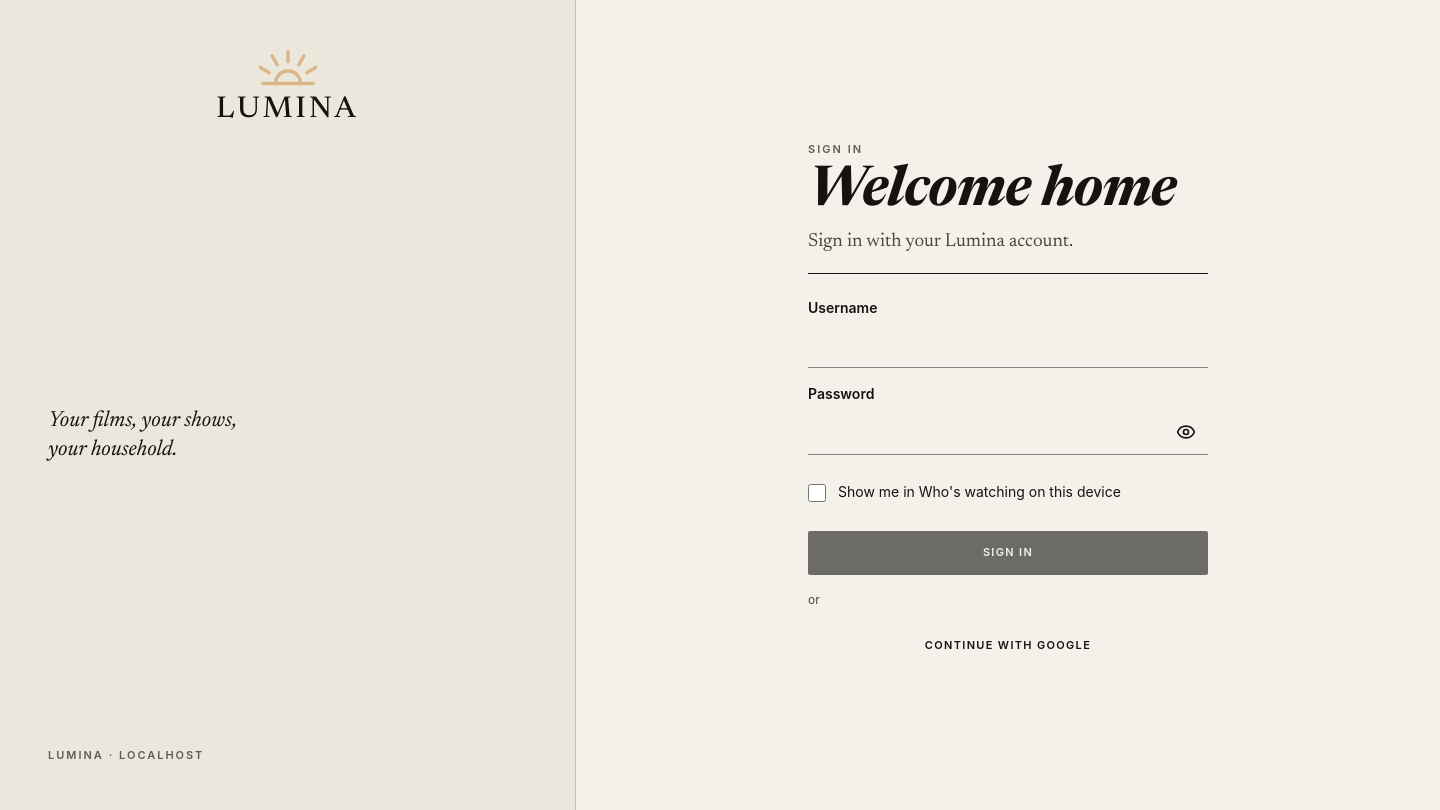
Test: OAuth web sign-in › shows a generic retryable message when a provider start fails
The width and height of the screenshot is (1440, 810).
Click the button "Continue with Google": (1008, 646) [808, 624, 1208, 668]
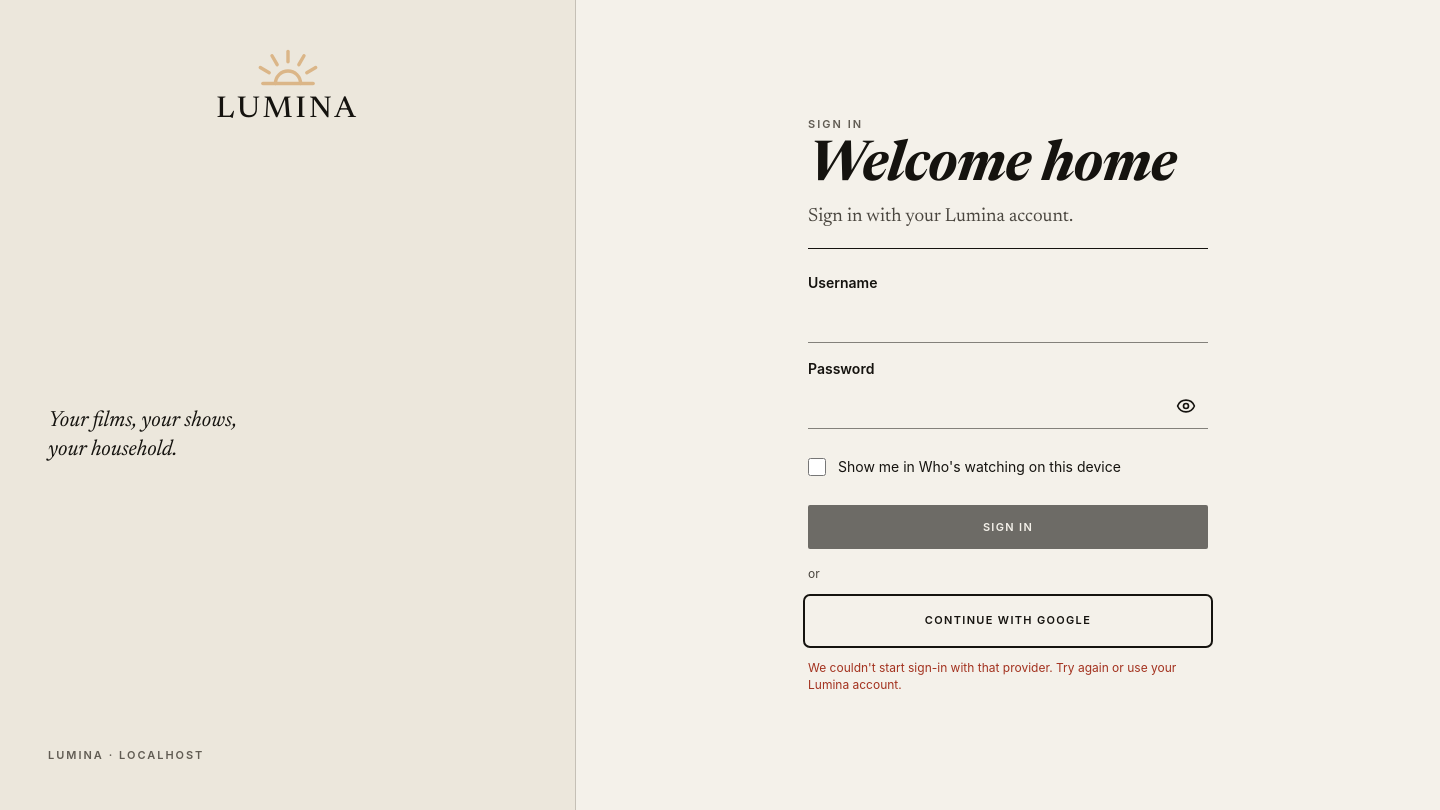
Expected: the message shows "We couldn't start sign-in with that provider.", [808, 660, 1176, 692]
